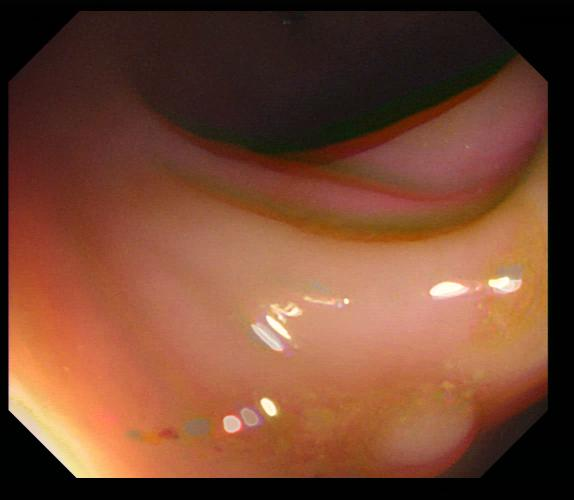polyp: (356, 398, 477, 472)
